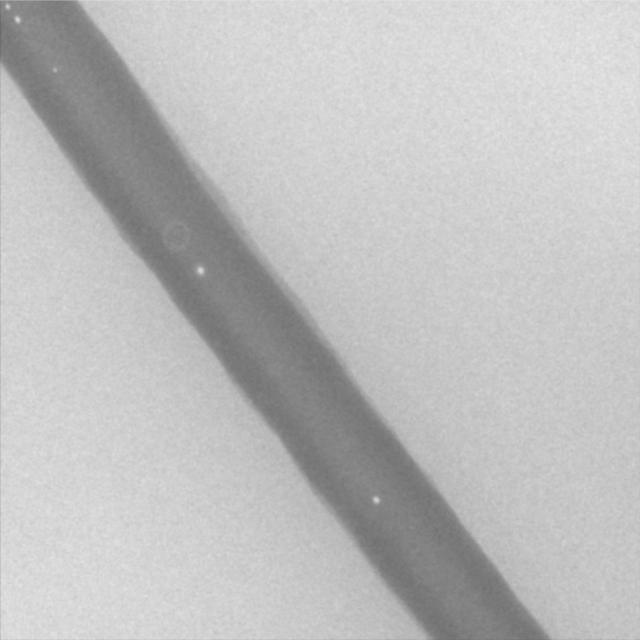air hole: (194, 265, 204, 277), (370, 493, 380, 505), (14, 14, 22, 24), (51, 64, 58, 74), (4, 2, 11, 10)
hollow bead: (160, 219, 191, 252)
